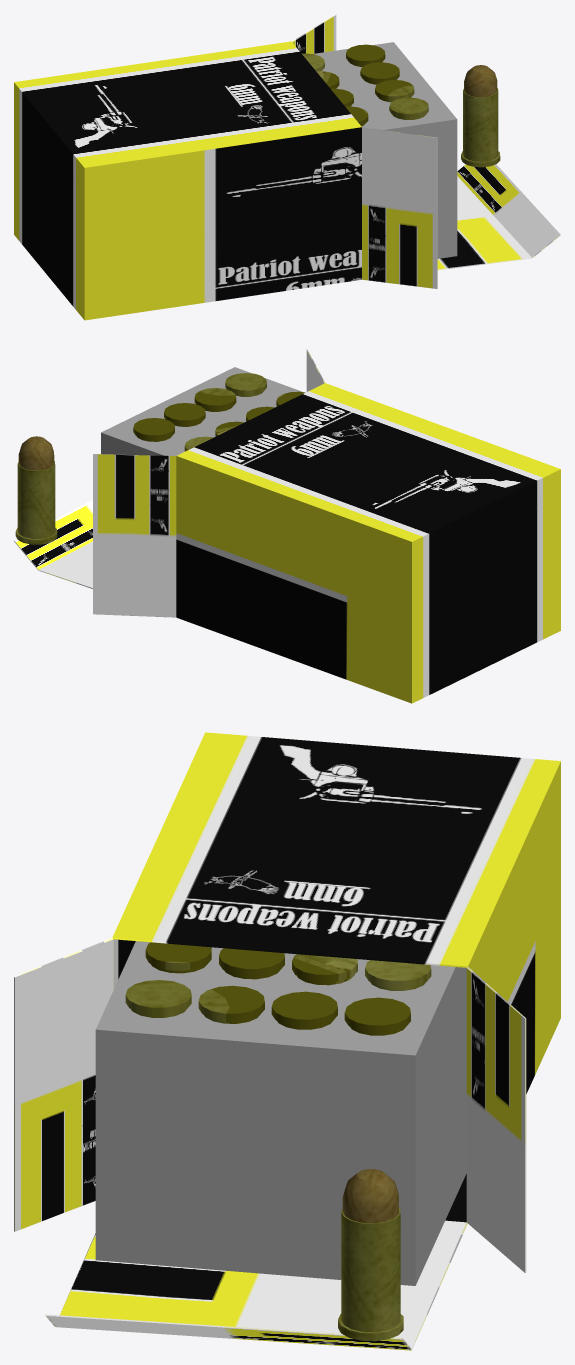
The model's file is CaixaPistol.fbx.
3 renders of one model, top to bottom at view 1: azimuth 30°, elevation 25°; view 2: azimuth 150°, elevation 25°; view 3: azimuth 270°, elevation 25°, orthographic. The views are drawn at different scales.
Parts seen in each view (by area): view 1: CaixaPistol1; view 2: CaixaPistol1; view 3: CaixaPistol1.
Boxes of the visible parts, left/top/right/bottom form: CaixaPistol1: left=14, top=14, right=560, bottom=320; CaixaPistol1: left=14, top=349, right=560, bottom=703; CaixaPistol1: left=14, top=732, right=560, bottom=1350.
Bounding box in the file's own units: 3.2 × 1.03 × 1.95.
Materials: 4 (3 with a texture image).
